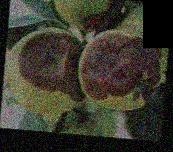rotten apple: (4, 24, 85, 116), (78, 28, 162, 112)
